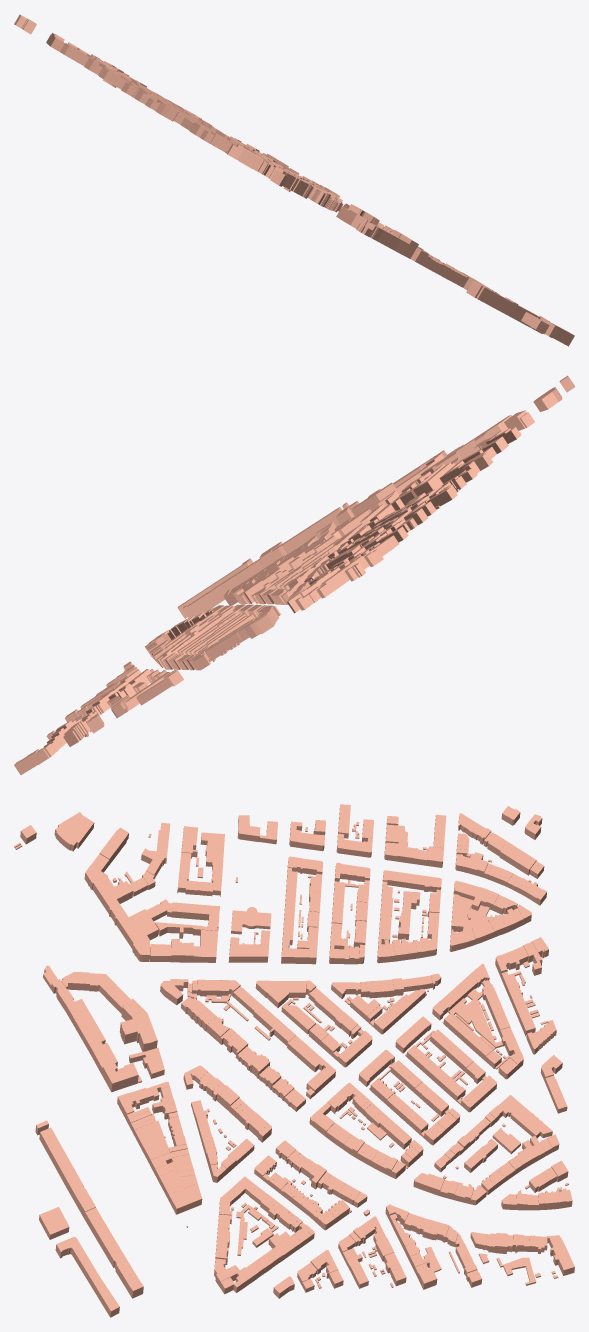
3 views of the same model, one above another, from view 1: azimuth 30°, elevation 25°; view 2: azimuth 150°, elevation 25°; view 3: azimuth 270°, elevation 25° (orthographic). The views are drawn at different scales.
Size of the model in its own units: 553 by 409 by 645.
